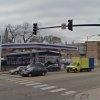Crosswalk: (12, 71, 75, 100)
